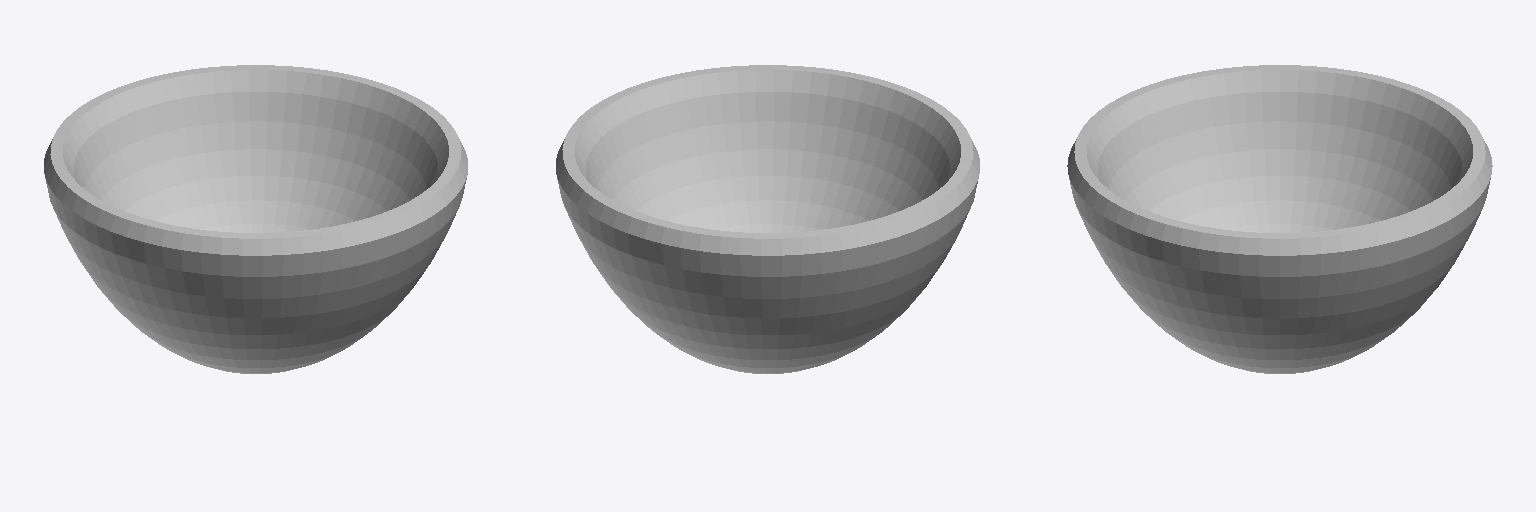
The model's file is bowl.obj.
3 renders of one model, left to right at view 1: azimuth 30°, elevation 25°; view 2: azimuth 150°, elevation 25°; view 3: azimuth 270°, elevation 25°, orthographic.
Parts seen in each view (by area): view 1: Sphere; view 2: Sphere; view 3: Sphere.
Part boxes in pixels (bbox=[...]): Sphere: bbox=[44, 65, 467, 373]; Sphere: bbox=[556, 65, 979, 373]; Sphere: bbox=[1067, 65, 1492, 373].
Size of the model in its own units: 5.49 by 2.98 by 5.49.